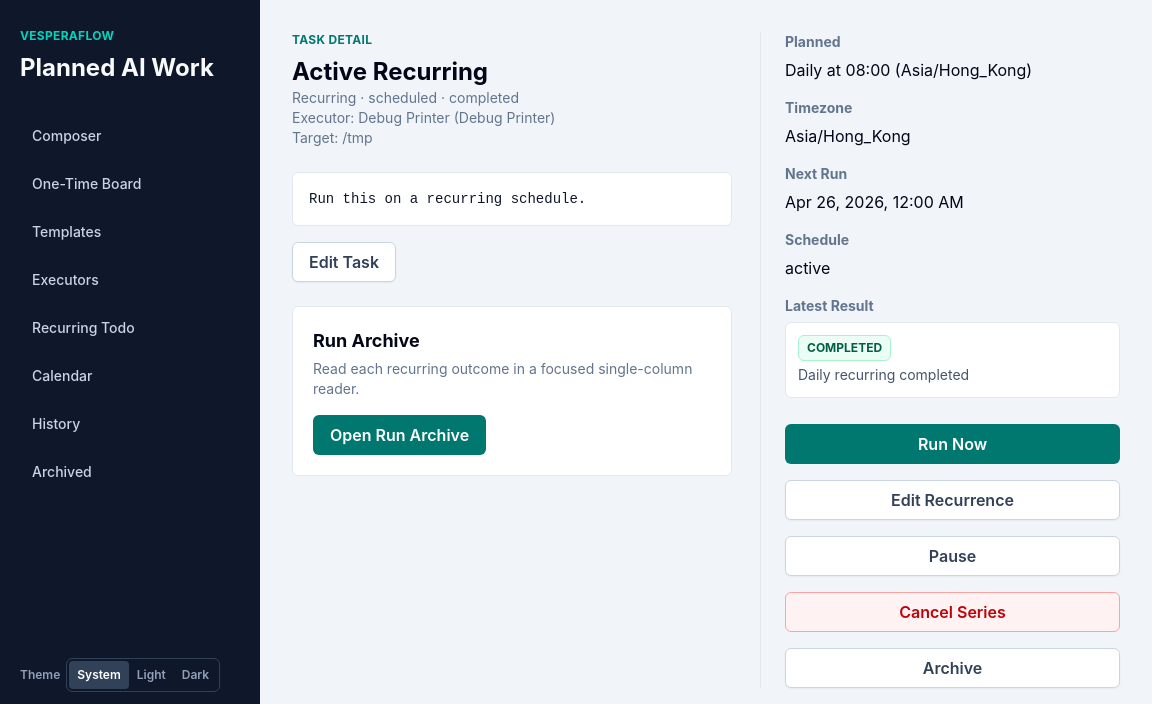
Test: App › edits a recurring task from task detail
The width and height of the screenshot is (1152, 704).
Click the button "Edit Task". click: (344, 262)
box: x1=292 y1=242 x2=396 y2=282
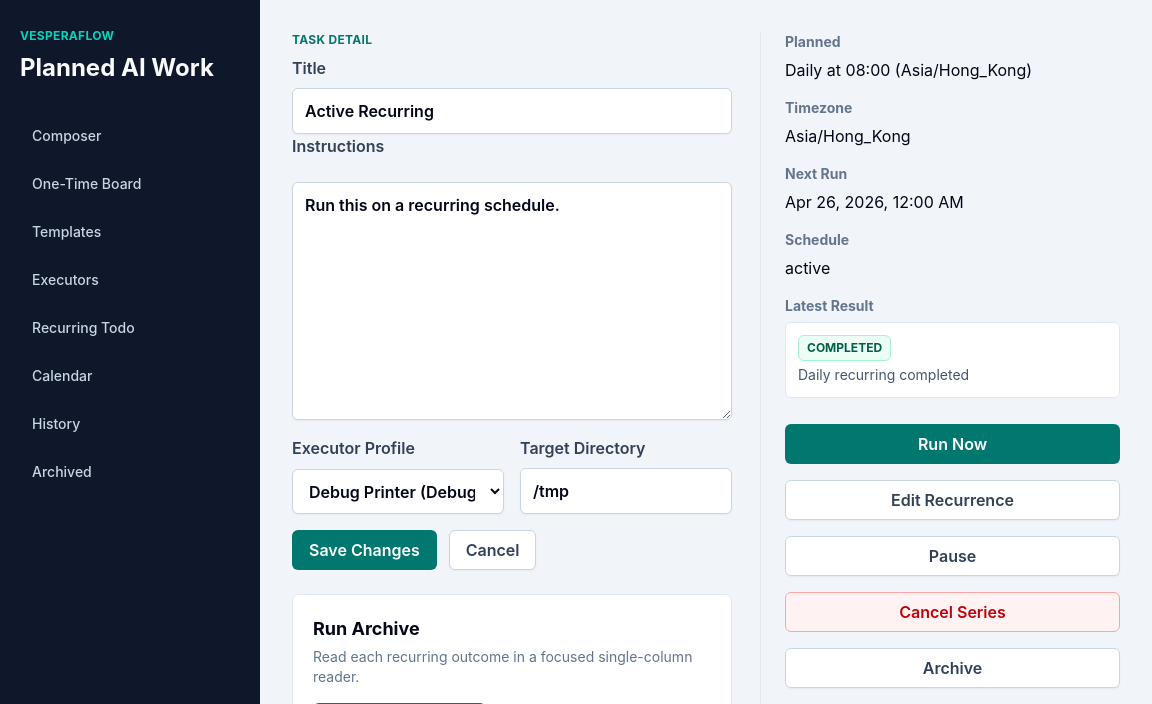
Replace the text in the field labelled "Title" with "Updated Recurring Task". click: (512, 111)
box: x1=292 y1=88 x2=732 y2=134
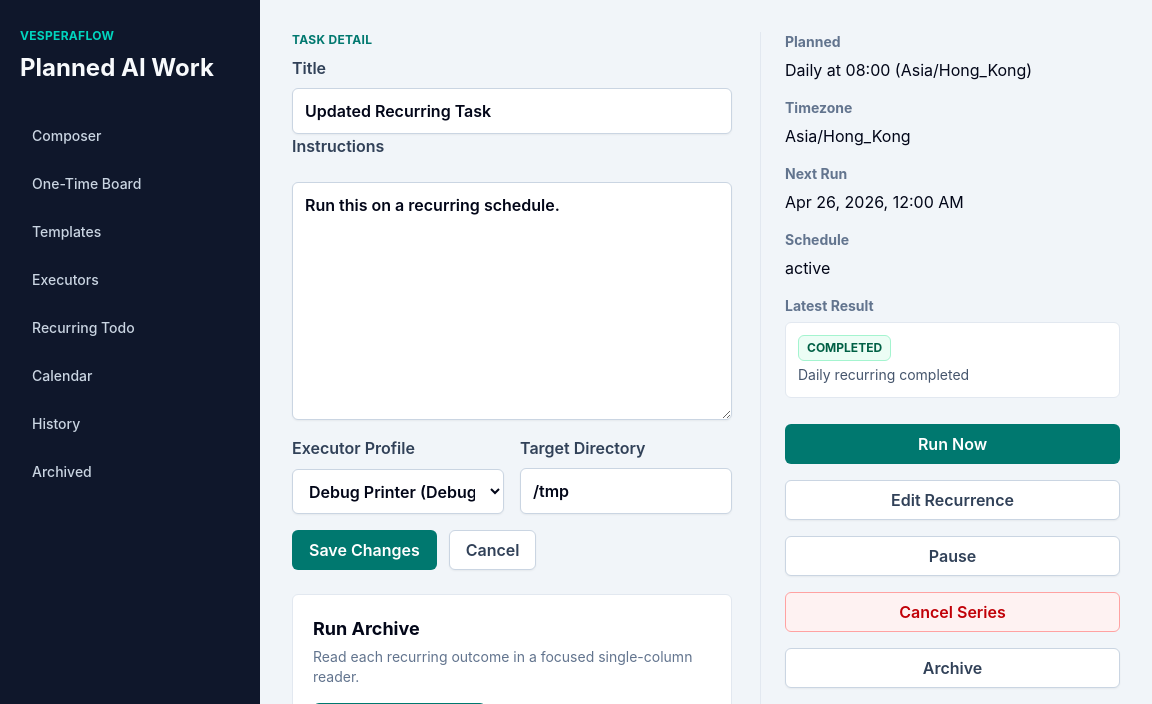
Replace the text in the text box labelled "Instructions" with "Updated recurring instructions.". click: (512, 301)
box: x1=292 y1=182 x2=732 y2=420
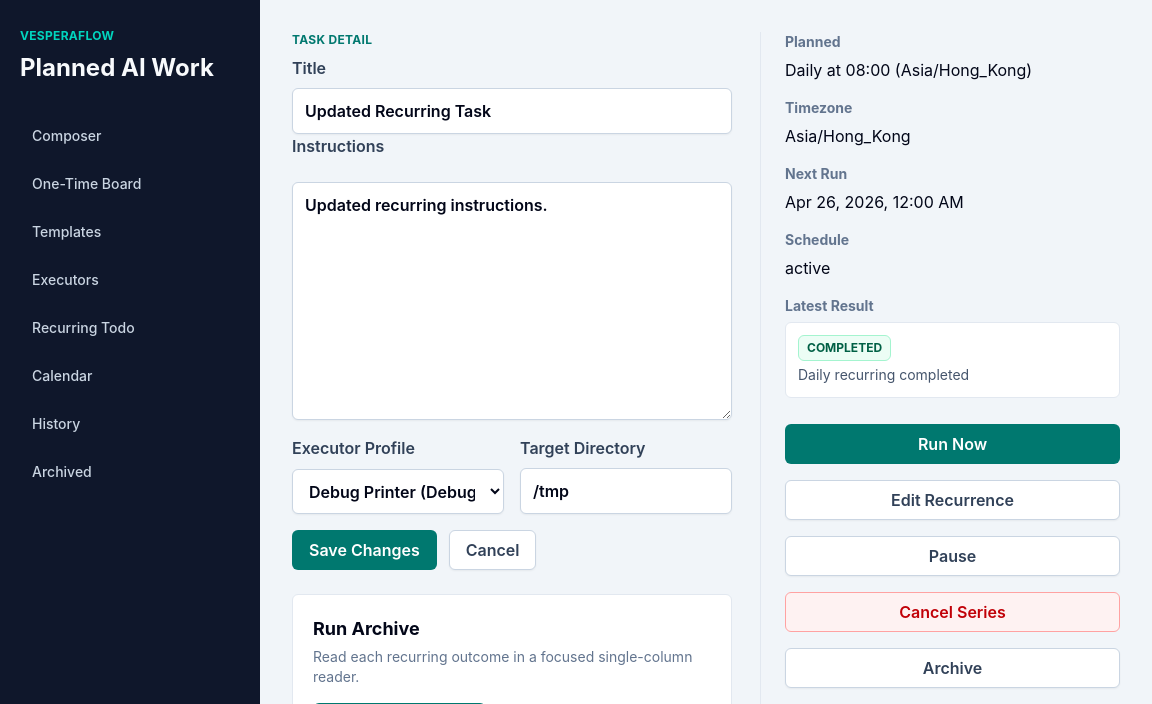
Replace the text in the field labelled "Target Directory" with "/tmp/updated-project". click: (626, 491)
box: x1=520 y1=468 x2=732 y2=514
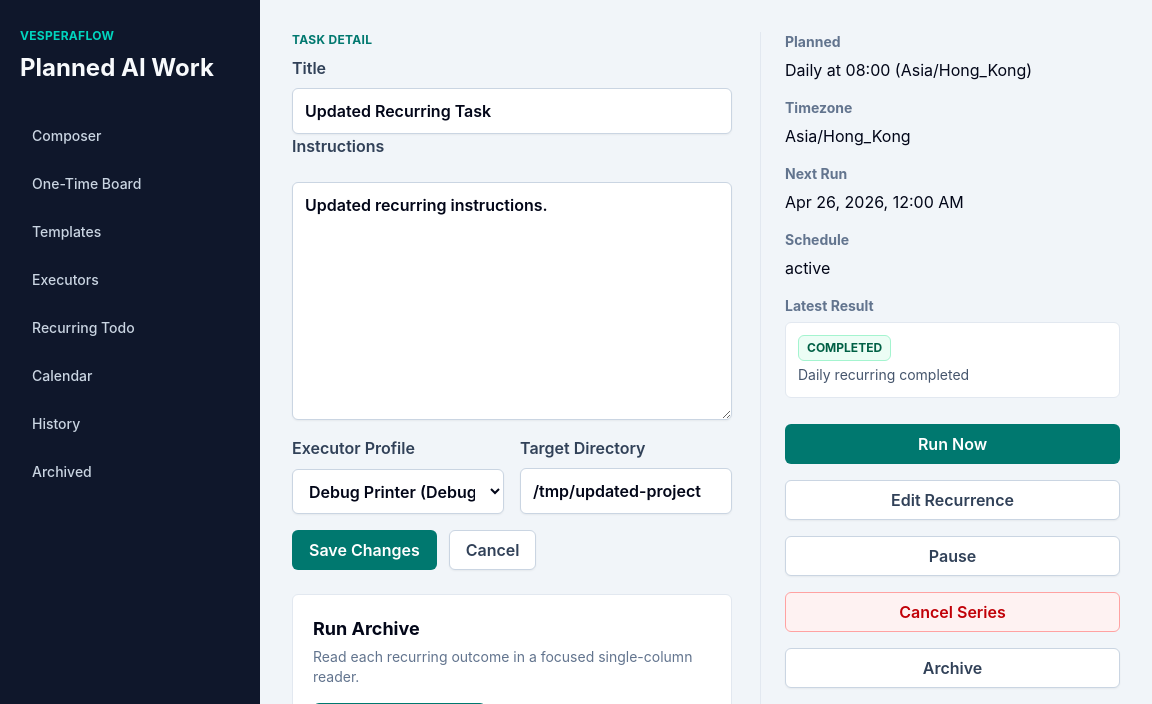
Select "Codex (Codex)" in the dropdown labelled "Executor Profile". click: (398, 492)
box: x1=292 y1=469 x2=504 y2=514
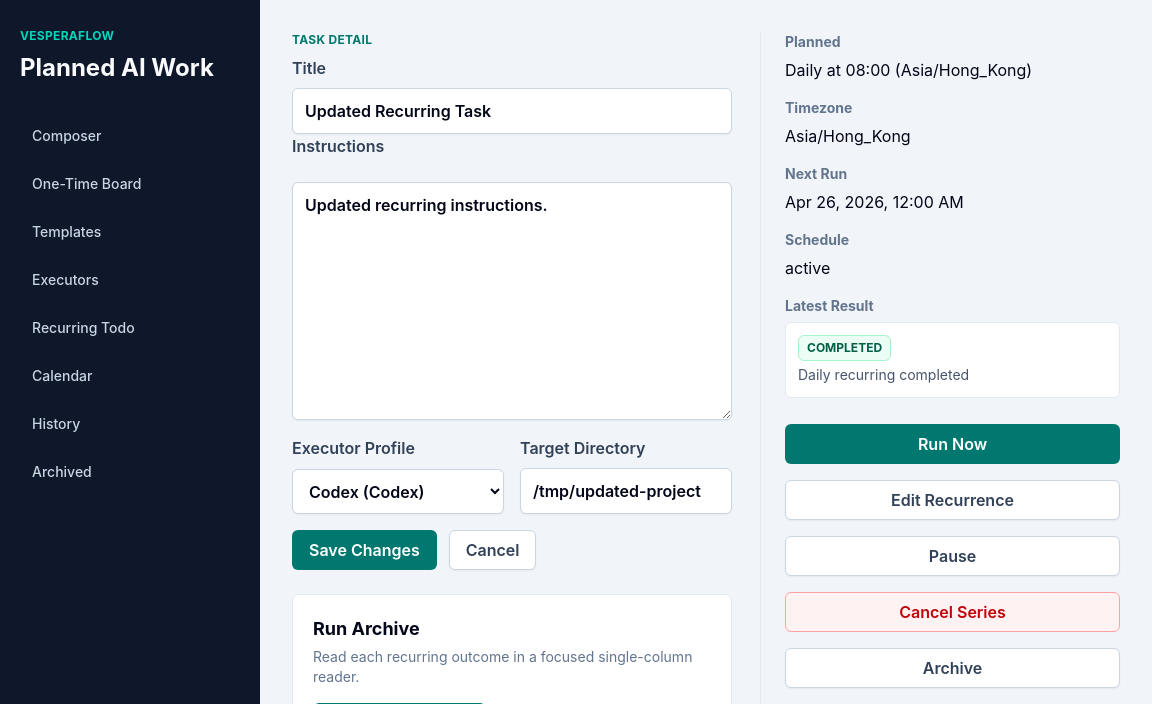
Click the button "Save Changes". click: (364, 550)
box: x1=292 y1=530 x2=437 y2=570
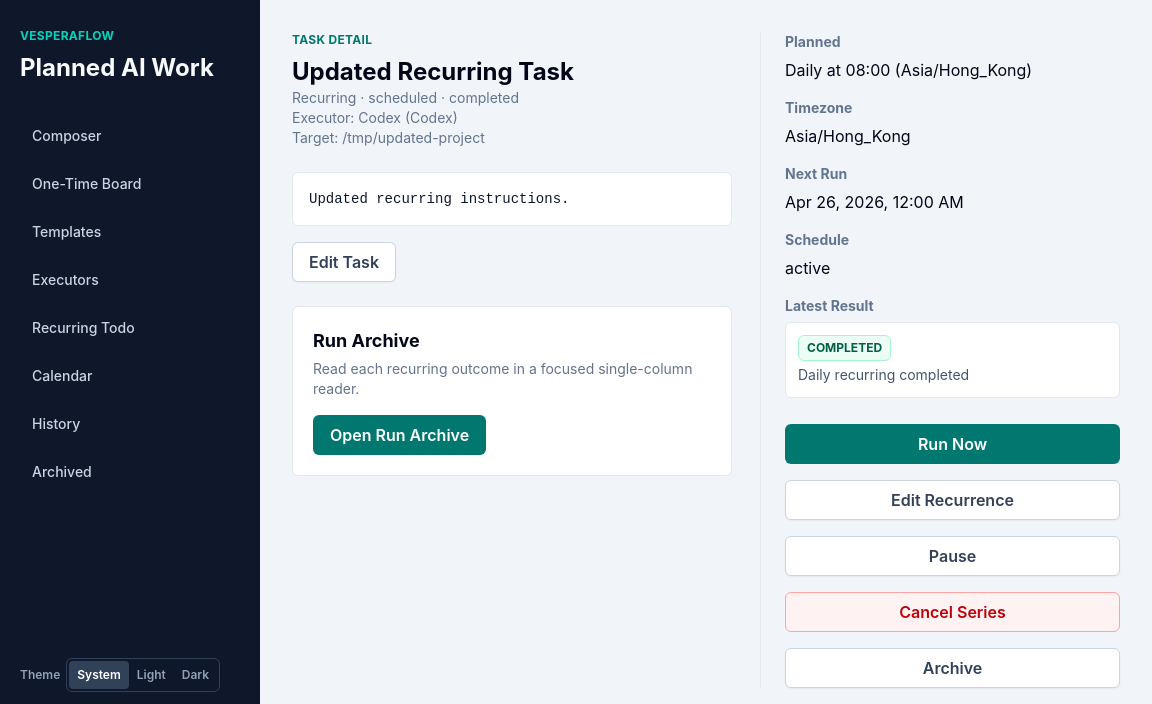
Expected: the text "Updated Recurring Task" is shown, x1=292 y1=57 x2=574 y2=86
